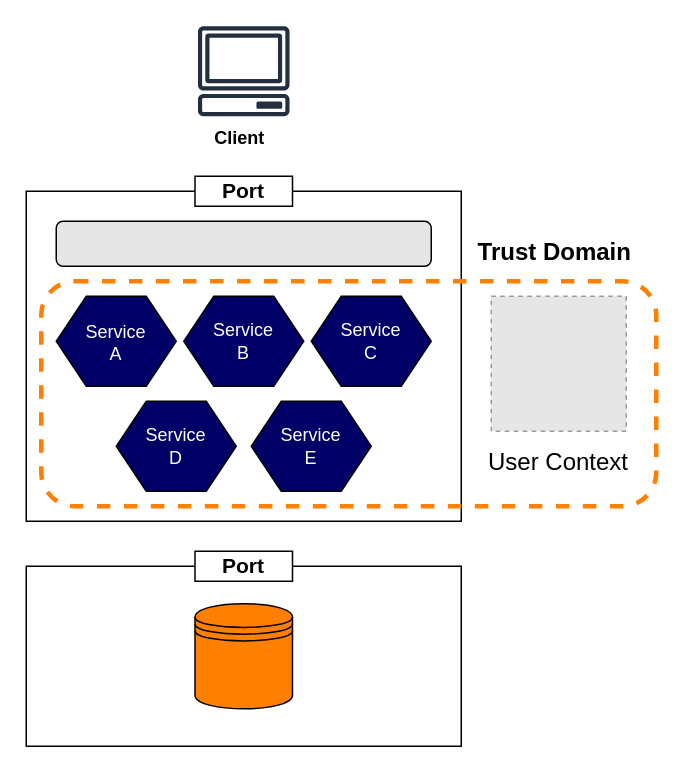
The diagram is 684 pixels wide and 773 high, and some of its shapes have lost their labels. Grey dashed boxes stand in for pictures. The centre of each missing label's shape, as x and y in pixels:
Database: the point at 243,655
Security Filter: the point at 243,243
